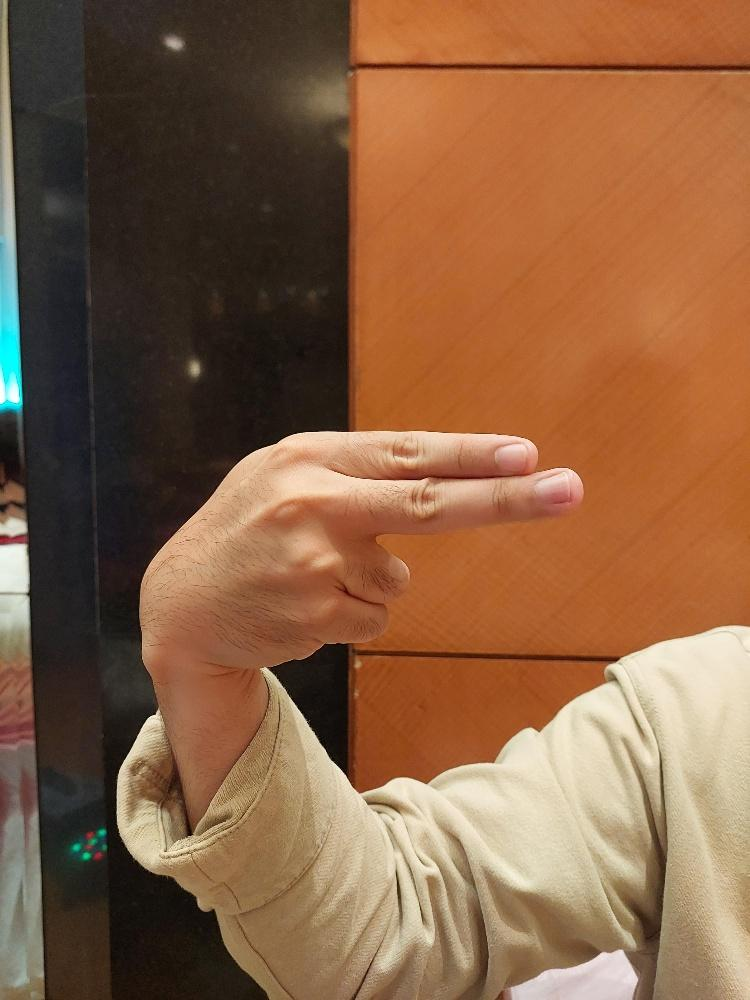h: (135, 426, 586, 670)
